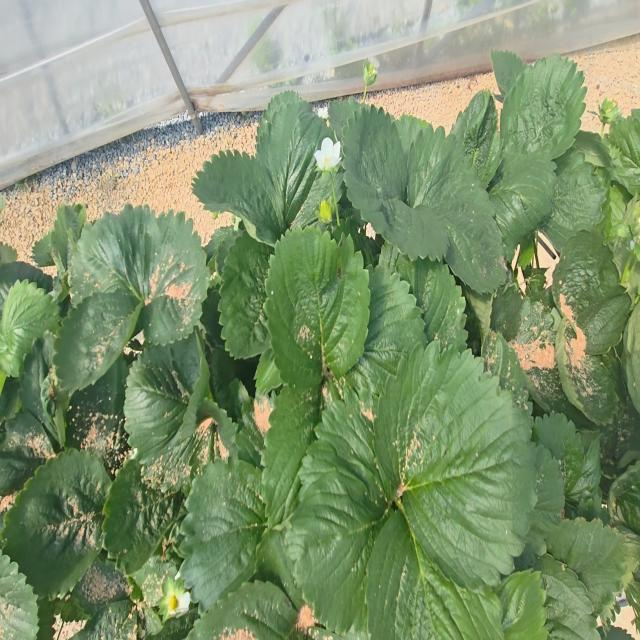Flowers: (159, 576, 191, 620), (314, 137, 341, 172), (362, 60, 377, 102)
Leaves: (374, 341, 537, 590), (285, 401, 386, 629), (366, 511, 504, 639), (264, 227, 370, 390), (407, 126, 507, 294), (341, 105, 448, 260), (2, 449, 110, 598), (490, 284, 584, 424), (343, 265, 427, 419), (180, 460, 263, 609), (124, 332, 209, 464), (257, 92, 330, 228), (552, 230, 631, 354), (138, 209, 210, 345), (53, 289, 142, 394), (193, 150, 290, 244), (102, 459, 181, 574), (501, 55, 587, 159), (261, 386, 320, 529), (70, 206, 156, 299), (547, 518, 626, 613), (488, 151, 555, 260), (67, 359, 129, 476), (555, 318, 619, 425), (218, 234, 272, 359), (186, 580, 297, 639), (542, 152, 606, 252), (0, 279, 59, 377), (522, 440, 564, 556), (450, 91, 500, 187), (413, 261, 466, 351), (0, 412, 54, 496), (482, 329, 531, 414), (533, 412, 583, 495), (257, 530, 303, 609), (0, 550, 39, 639), (72, 600, 136, 639), (571, 130, 611, 168)
Strawberries: (595, 98, 621, 136), (316, 200, 332, 224)
